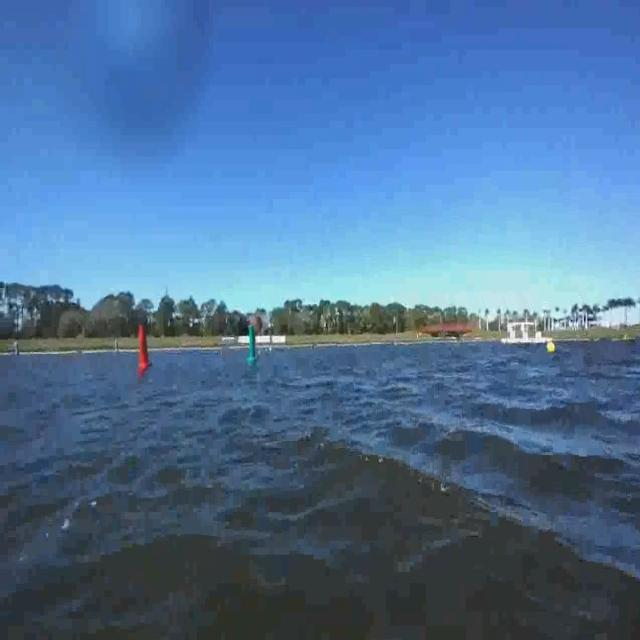green-column-buoy: (242, 313, 259, 367)
red-column-buoy: (136, 315, 152, 378)
